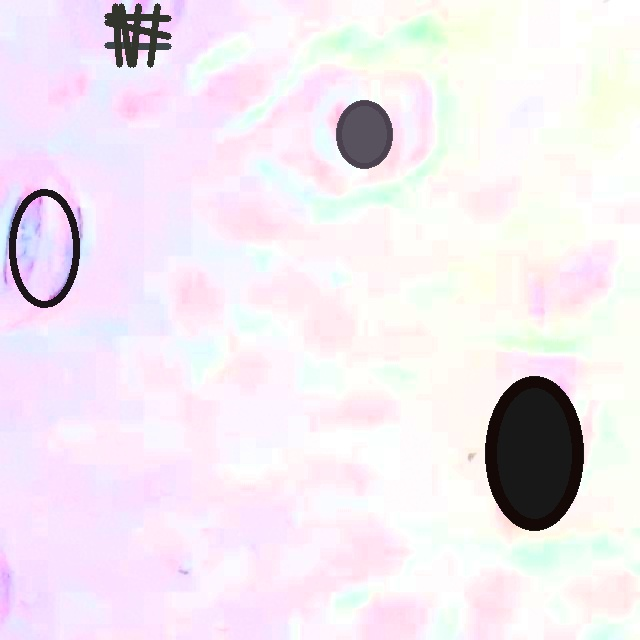open: (485, 376, 583, 530), (8, 188, 79, 308), (104, 3, 171, 67), (336, 100, 392, 169)
